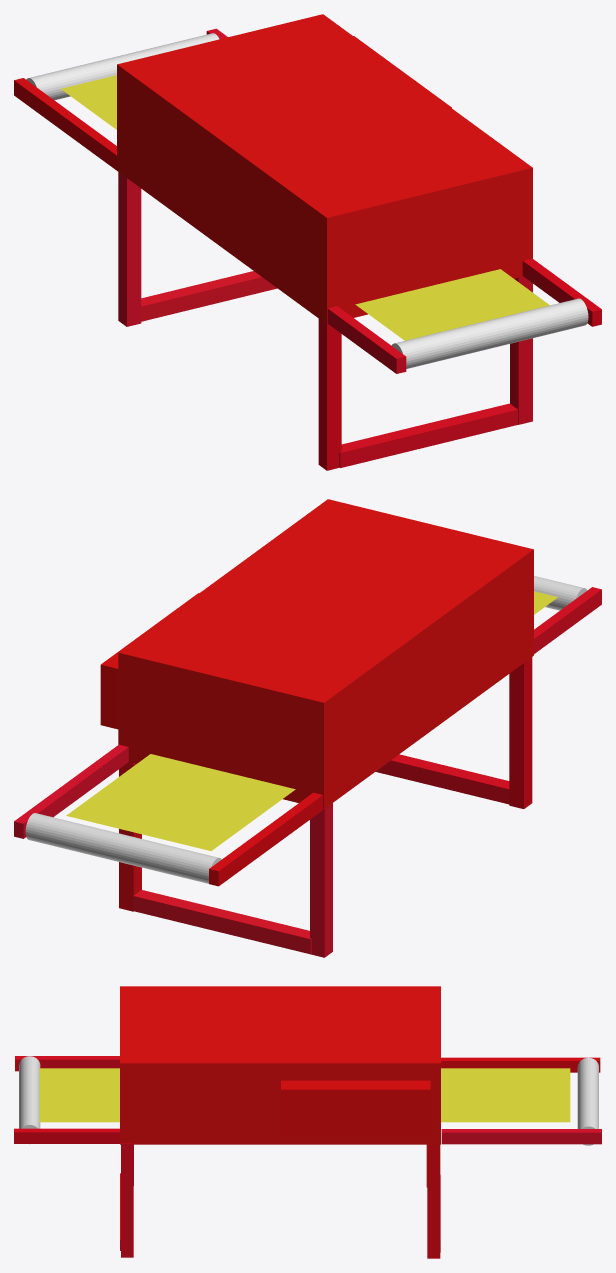
The picture shows the model from 3 angles, top to bottom: view 1: azimuth 30°, elevation 25°; view 2: azimuth 150°, elevation 25°; view 3: azimuth 270°, elevation 25°; orthographic projection. The views are drawn at different scales.
Visible parts, largest first — view 1: Куб, Плоскость, Цилиндр, Куб.009, Куб.007, Куб.006, Куб.010, Цилиндр.001, Куб.003, Куб.001, Куб.005, Куб.002; view 2: Куб, Плоскость, Цилиндр.001, Куб.010, Куб.006, Куб.007, Куб.009, Куб.003, Куб.004, Куб.001, Куб.011, Куб.008 (+1 smaller); view 3: Куб, Плоскость, Куб.011, Куб.004, Куб.003, Куб.002, Куб.008, Цилиндр.001, Цилиндр, Куб.005, Куб.001.
Boxes of the visible parts, left/top/right/bottom form: Куб: left=117, top=14, right=532, bottom=324; Плоскость: left=61, top=75, right=549, bottom=340; Цилиндр: left=391, top=298, right=588, bottom=368; Куб.009: left=339, top=403, right=517, bottom=467; Куб.007: left=118, top=172, right=141, bottom=326; Куб.006: left=318, top=319, right=341, bottom=470; Куб.010: left=141, top=271, right=277, bottom=321; Цилиндр.001: left=26, top=33, right=219, bottom=100; Куб.003: left=14, top=78, right=116, bottom=170; Куб.001: left=327, top=306, right=406, bottom=373; Куб.005: left=510, top=276, right=532, bottom=424; Куб.002: left=522, top=258, right=601, bottom=326; Куб: left=118, top=499, right=533, bottom=809; Плоскость: left=66, top=591, right=557, bottom=850; Цилиндр.001: left=25, top=813, right=221, bottom=883; Куб.010: left=133, top=890, right=311, bottom=954; Куб.006: left=509, top=657, right=532, bottom=808; Куб.007: left=310, top=803, right=332, bottom=957; Куб.009: left=375, top=754, right=509, bottom=804; Куб.003: left=209, top=792, right=323, bottom=886; Куб.004: left=14, top=744, right=128, bottom=838; Куб.001: left=534, top=587, right=601, bottom=653; Куб.011: left=100, top=593, right=198, bottom=729; Куб.008: left=119, top=762, right=141, bottom=911; Куб: left=120, top=986, right=440, bottom=1144; Плоскость: left=39, top=1068, right=570, bottom=1122; Куб.011: left=281, top=1080, right=430, bottom=1135; Куб.004: left=441, top=1129, right=601, bottom=1144; Куб.003: left=441, top=1057, right=600, bottom=1072; Куб.002: left=14, top=1128, right=119, bottom=1143; Куб.008: left=427, top=1144, right=440, bottom=1258; Цилиндр.001: left=577, top=1057, right=598, bottom=1145; Цилиндр: left=19, top=1056, right=40, bottom=1144; Куб.005: left=121, top=1143, right=133, bottom=1257; Куб.001: left=15, top=1056, right=119, bottom=1071.
Bounding box in the file's own units: 95.04 × 101 × 275.
